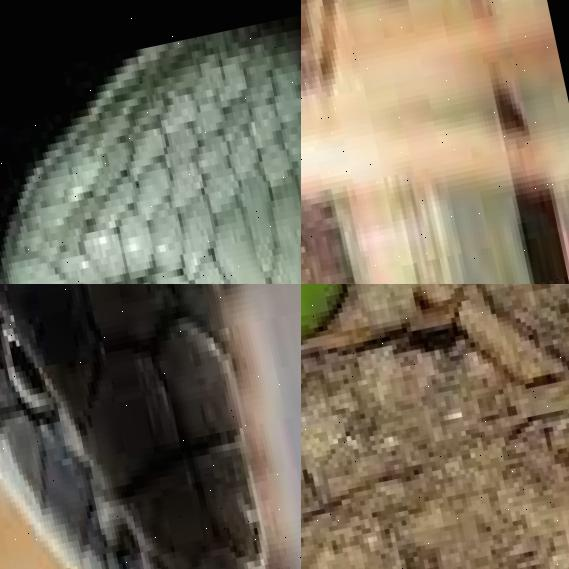snake: (0, 0, 301, 284)
